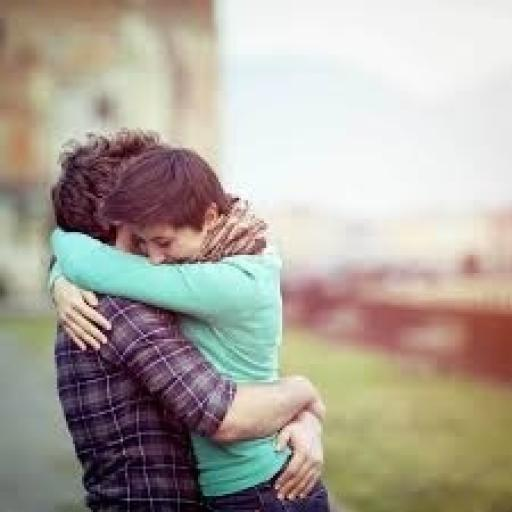hugging: (43, 125, 339, 510)
